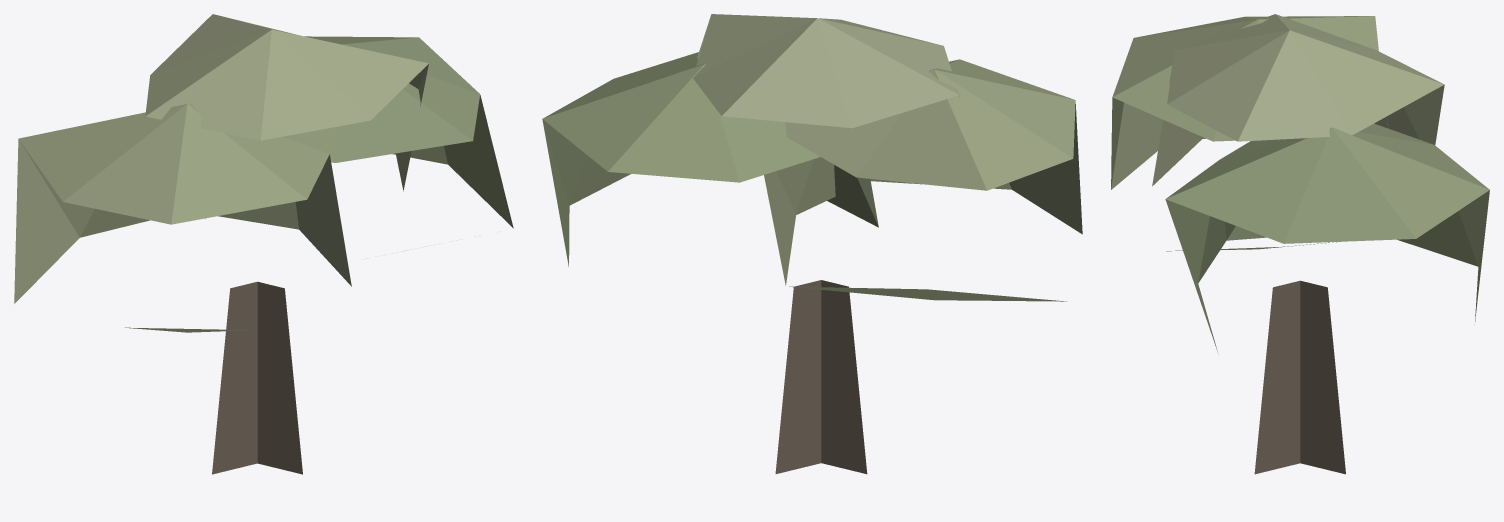
Rendered from tree_med_olive.glb.
3 renders of one model, left to right at view 1: azimuth 30°, elevation 25°; view 2: azimuth 150°, elevation 25°; view 3: azimuth 270°, elevation 25°, orthographic.
Bounding box in the file's own units: 1.02 × 0.96 × 0.7171.
